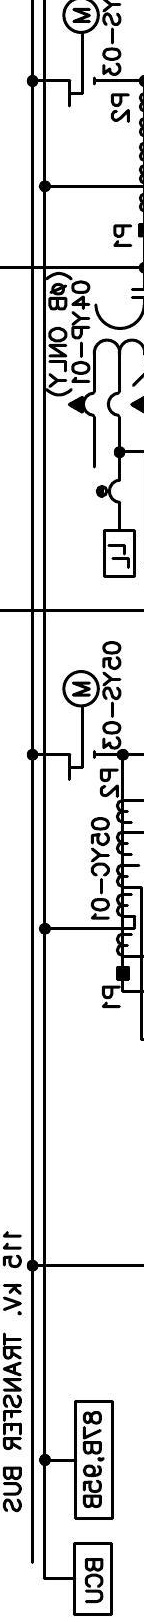115_1way_ds_w_motor: (61, 668, 100, 782)
BCU: (73, 1541, 114, 1617)
LL: (103, 529, 137, 578)
